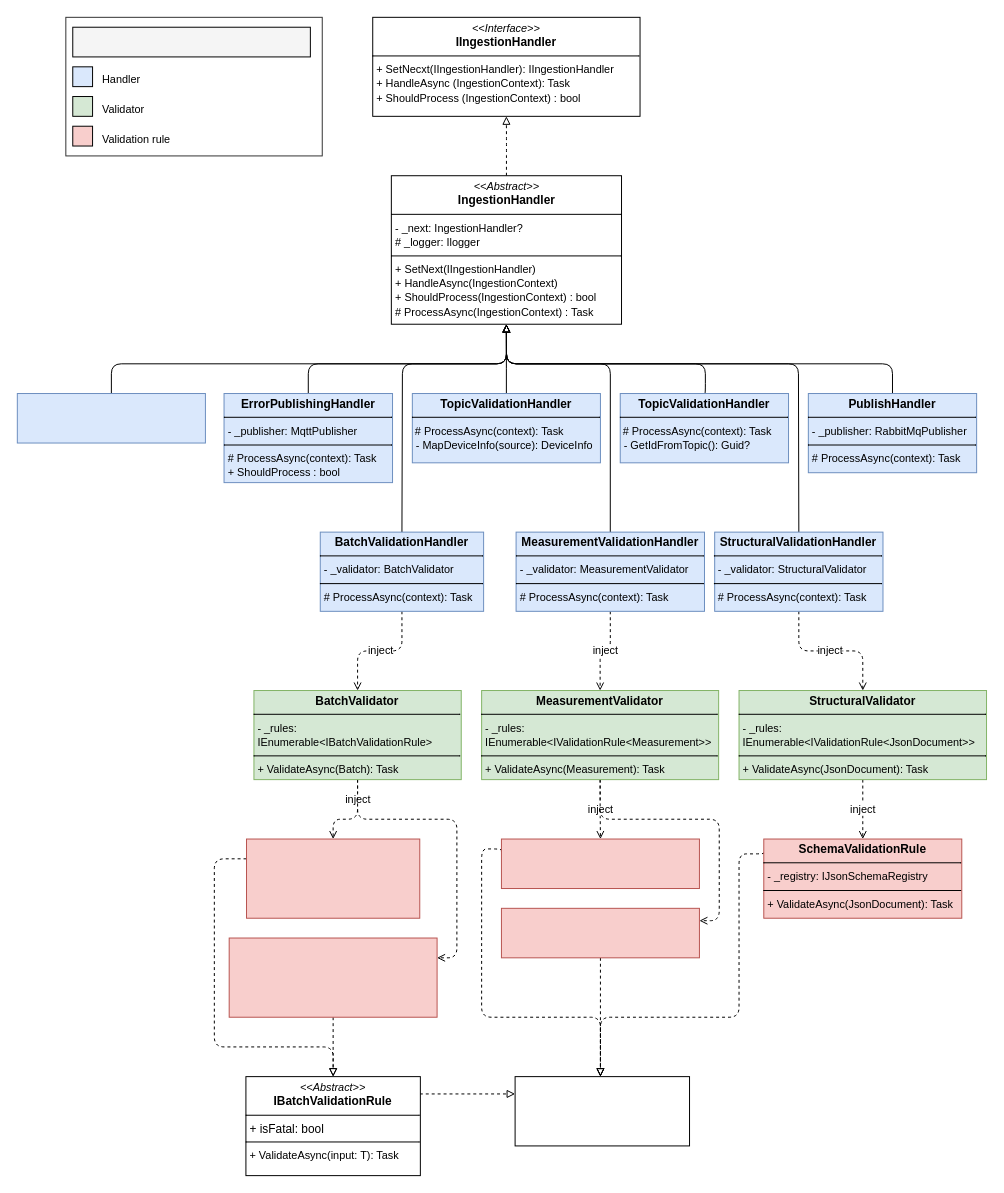
Image size: 1004x1193. Some labels were removed from this diagram. The centre of each missing label's shape, as x and y in pixels:
<<Abstract>> IValidationRule<T> + ValidateAsync(input: T): Task: (x=602, y=1111)
BatchContainsMeasurementsRule + isFatal: bool + ValidateAsync(Batch): Task: (x=332, y=977)
CorrectUnitRule + ValidateAsync(Measurement): Task: (x=599, y=863)
DeviceReportedNotInFutureRule + ValidateAsync(Measurement): Task: (x=599, y=932)
Legend: (x=191, y=41)
ParseJsonHandler # ProcessAsync(context): Task: (x=110, y=418)
PatientActiveRule + isFatal: bool + ValidateAsync(Batch): Task: (x=333, y=878)
